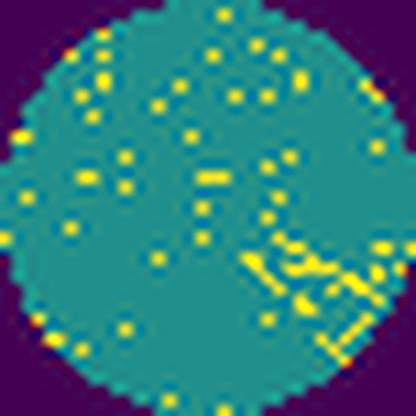Scratch: (271, 224, 394, 308), (239, 247, 291, 300)
